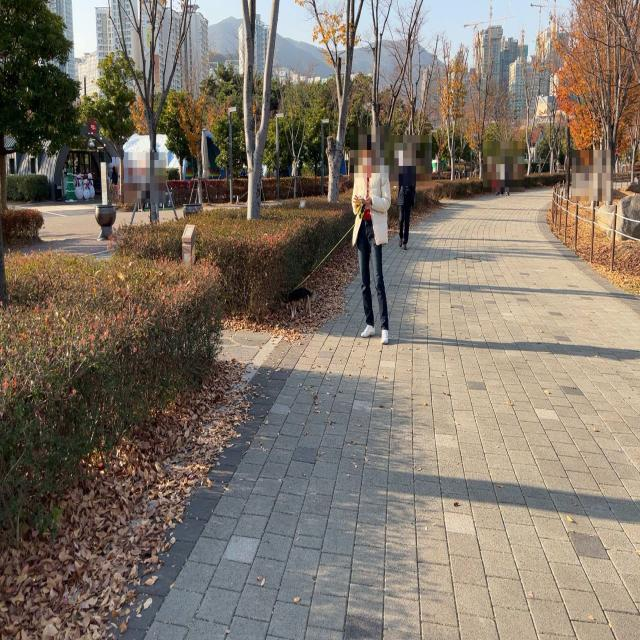Leashed_Dog: (278, 195, 376, 322)
